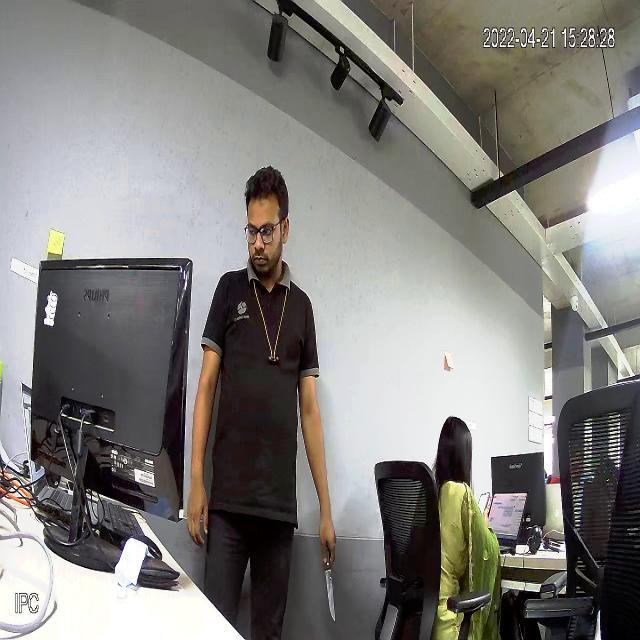Knife: (315, 552, 352, 628)
